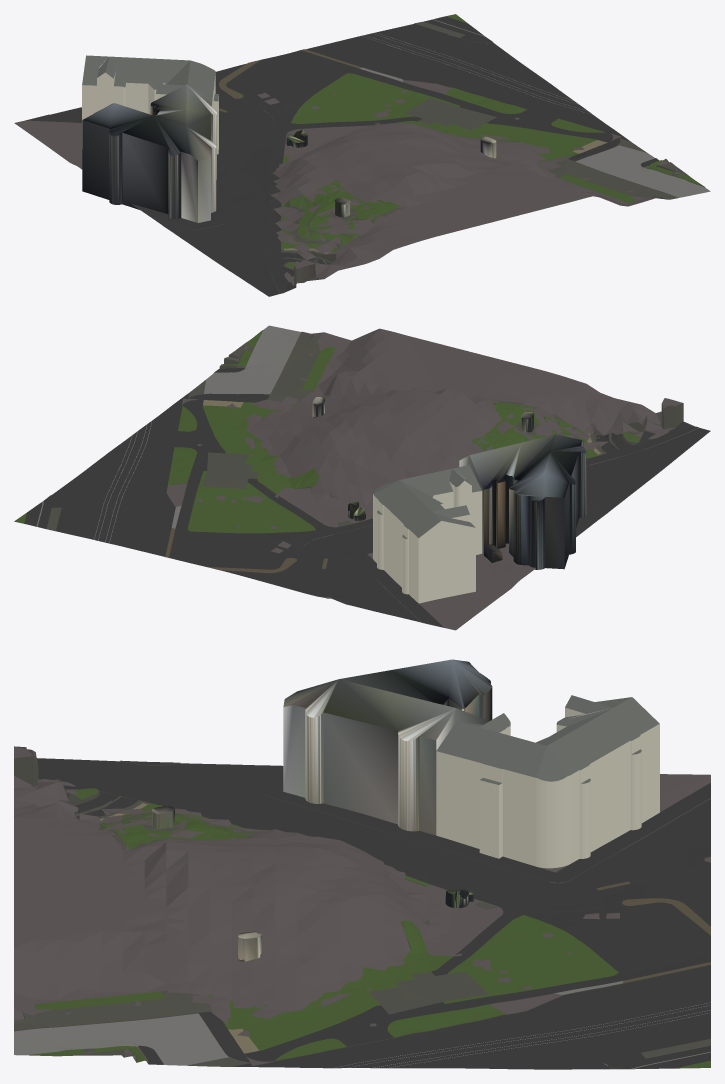
3 views of the same model, one above another, from view 1: azimuth 30°, elevation 25°; view 2: azimuth 150°, elevation 25°; view 3: azimuth 270°, elevation 25° (orthographic). The views are drawn at different scales.
Visible parts, largest first — view 1: c_m09_m04; view 2: c_m09_m04; view 3: c_m09_m04.
Boxes of the visible parts, <box> form: c_m09_m04: <box>14,14,710,296</box>; c_m09_m04: <box>14,325,710,630</box>; c_m09_m04: <box>14,659,710,1069</box>.
Bounding box in the file's own units: 134 × 24.71 × 128.
